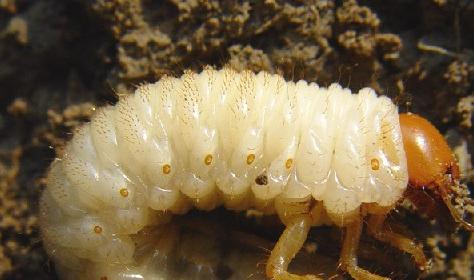grub: (38, 63, 474, 280)
